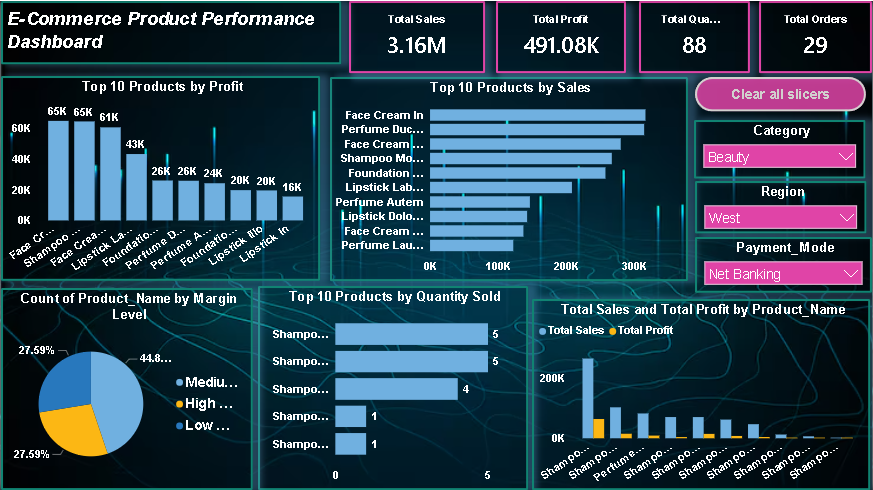

Layout of this report page (visuals, bound fields, positions):
{"tool":"powerbi","page":{"name":"Page 1","canvas":[1280,720],"ordinal":0},"visuals":[{"type":"clusteredBarChart","title":"Top 10 Products by Sales","fields":{"Category":["ecommerce_sales ecommerce_sales.Product_Name"],"Y":["ecommerce_sales ecommerce_sales.Total Sales"]},"box":[483.4,111.7,526,299.8],"z":4},{"type":"columnChart","title":"Top 10 Products by Profit","fields":{"Category":["ecommerce_sales ecommerce_sales.Product_Name"],"Y":["ecommerce_sales ecommerce_sales.Total Profit"]},"box":[0,110.2,468.7,301.2],"z":5},{"type":"clusteredBarChart","title":"Top 10 Products by Quantity Sold","fields":{"Category":["ecommerce_sales ecommerce_sales.Product_Name"],"Y":["ecommerce_sales ecommerce_sales.Total Quantity"]},"box":[377.6,418.8,396.7,299.8],"z":6},{"type":"clusteredColumnChart","fields":{"Category":["ecommerce_sales ecommerce_sales.Product_Name"],"Y":["ecommerce_sales ecommerce_sales.Total Sales","ecommerce_sales ecommerce_sales.Total Profit"]},"box":[780.2,437.9,496.7,280.7],"z":7},{"type":"pieChart","fields":{"Category":["ecommerce_sales ecommerce_sales.Margin Level"],"Y":["CountNonNull(ecommerce_sales ecommerce_sales.Product_Name)"]},"box":[0,421.7,370.3,296.8],"z":8},{"type":"slicer","title":"Category","fields":{"Values":["ecommerce_sales ecommerce_sales.Category"]},"box":[1018.6,175.4,252.4,85.9],"z":9},{"type":"slicer","title":"Region","fields":{"Values":["ecommerce_sales ecommerce_sales.Region"]},"box":[1020.4,265,252.4,77],"z":10},{"type":"textbox","box":[0,0,500.4,92.6],"z":11},{"type":"cardVisual","fields":{"Data":["ecommerce_sales ecommerce_sales.Total Sales"]},"box":[511.3,0,199.8,105.8],"z":12},{"type":"cardVisual","fields":{"Data":["ecommerce_sales ecommerce_sales.Total Profit"]},"box":[727.3,0,191,105.8],"z":13},{"type":"cardVisual","fields":{"Data":["ecommerce_sales ecommerce_sales.Total Quantity"]},"box":[937.5,0,163.1,105.8],"z":14},{"type":"cardVisual","fields":{"Data":["ecommerce_sales ecommerce_sales.Total Orders"]},"box":[1113.8,0,166,105.8],"z":15},{"type":"slicer","title":"Payment_Mode","fields":{"Values":["ecommerce_sales ecommerce_sales.Payment_Mode"]},"box":[1020.4,347.3,259.6,82.3],"z":16},{"type":"actionButton","box":[1019.8,111.5,251.2,50.5],"z":17}]}

Visuals, with their boxes in screenshot pixels (x1, y1, x2, y2), scaled from the page's 1280x720 canvas onto the 873x490 screenshot:
"Top 10 Products by Sales" clusteredBarChart: x1=330 y1=76 x2=688 y2=280
"Top 10 Products by Profit" columnChart: x1=0 y1=75 x2=320 y2=280
"Top 10 Products by Quantity Sold" clusteredBarChart: x1=258 y1=285 x2=528 y2=489
clusteredColumnChart - ecommerce_sales ecommerce_sales.Product_Name x ecommerce_sales ecommerce_sales.Total Sales: x1=532 y1=298 x2=871 y2=489
pieChart - ecommerce_sales ecommerce_sales.Margin Level x CountNonNull(ecommerce_sales ecommerce_sales.Product_Name): x1=0 y1=287 x2=253 y2=489
"Category" slicer: x1=695 y1=119 x2=867 y2=178
"Region" slicer: x1=696 y1=180 x2=868 y2=233
textbox: x1=0 y1=0 x2=341 y2=63
cardVisual - ecommerce_sales ecommerce_sales.Total Sales: x1=349 y1=0 x2=485 y2=72
cardVisual - ecommerce_sales ecommerce_sales.Total Profit: x1=496 y1=0 x2=626 y2=72
cardVisual - ecommerce_sales ecommerce_sales.Total Quantity: x1=639 y1=0 x2=751 y2=72
cardVisual - ecommerce_sales ecommerce_sales.Total Orders: x1=760 y1=0 x2=872 y2=72
"Payment_Mode" slicer: x1=696 y1=236 x2=872 y2=292
actionButton: x1=696 y1=76 x2=867 y2=110
